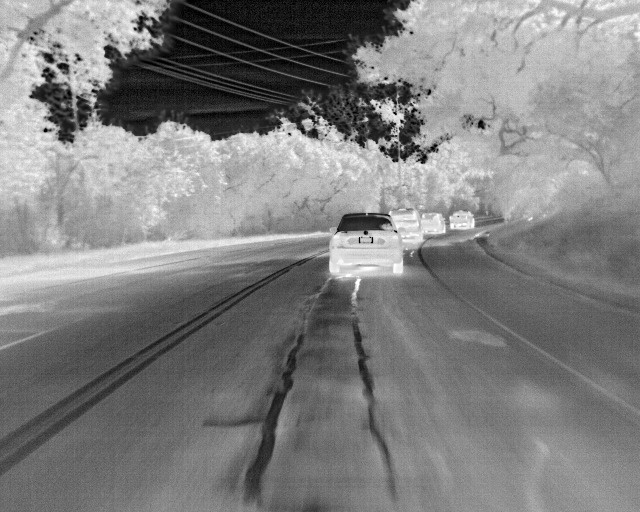vehicle: (329, 212, 401, 278), (390, 209, 424, 247), (421, 212, 445, 236), (451, 210, 475, 229)
